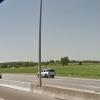Car: (34, 64, 58, 81)
